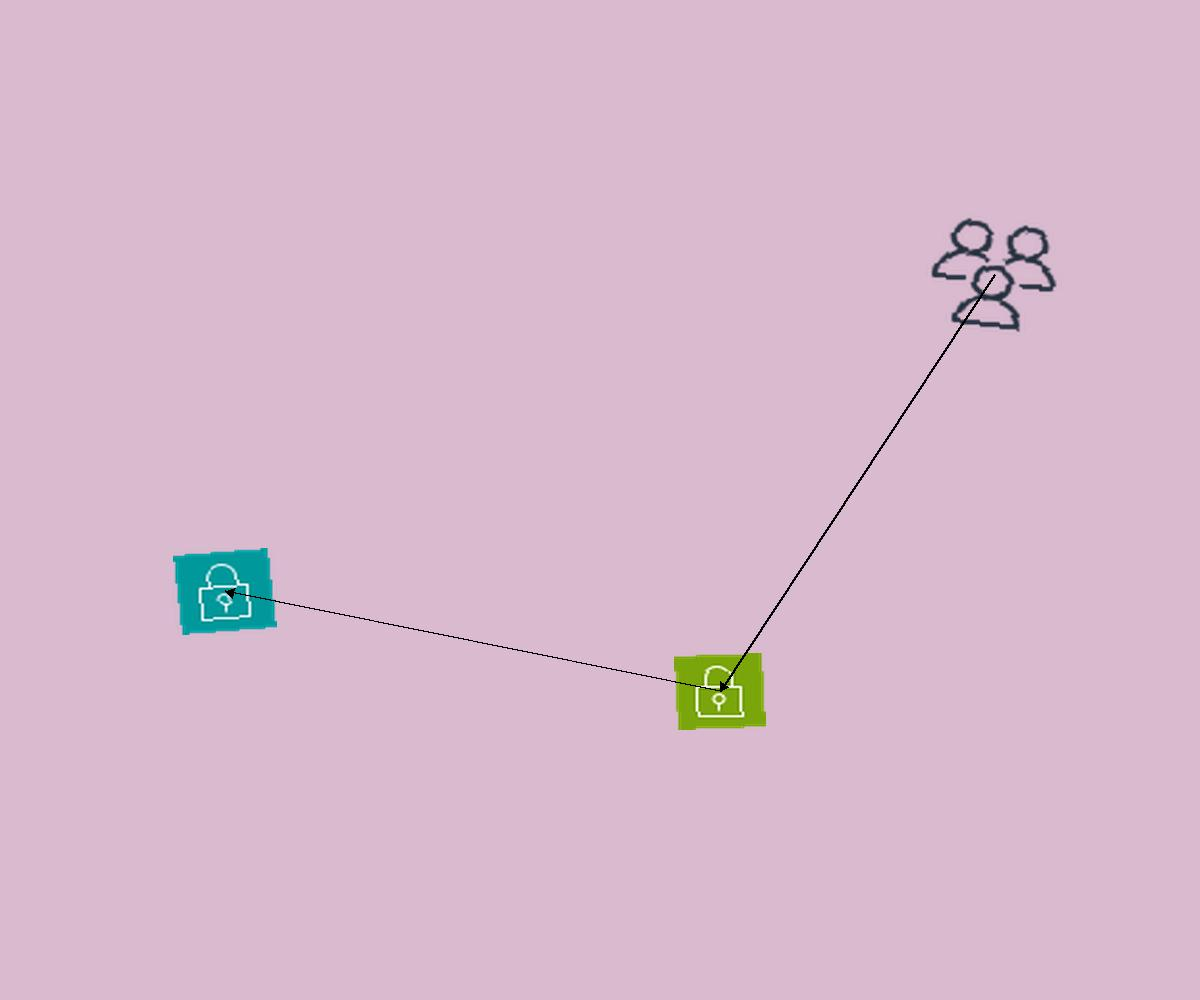AWS-Private-subnet: (173, 548, 277, 635)
AWS-Public-subnet: (674, 653, 766, 730)
AWS-Res_Users: (915, 209, 1073, 341)
